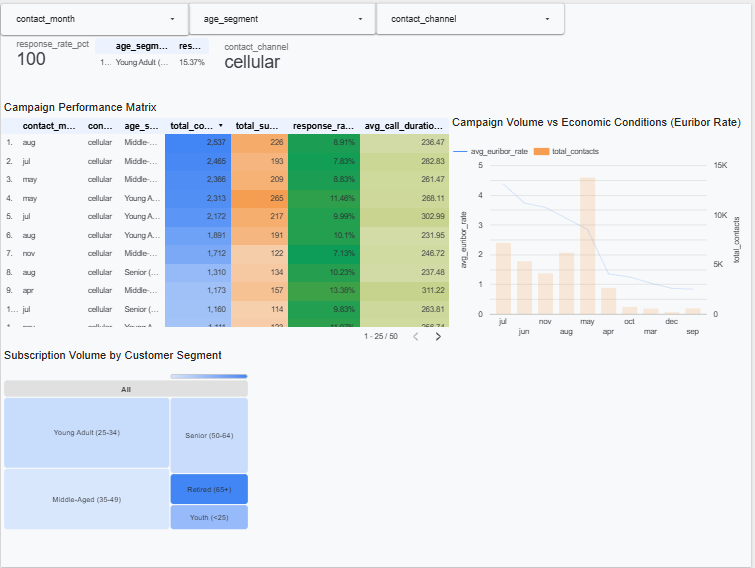

The page's visual inventory and layout, read from the dashboard file:
{"tool":"powerbi","page":{"name":"Customer 360","canvas":[1280,720],"ordinal":2},"visuals":[{"type":"cardVisual","title":"Suppressed Customers","fields":{"Data":["mart_customer_360.Suppressed Customer Count"]},"box":[10,0,280,280],"z":0},{"type":"tableEx","title":"Customer Risk vs Campaign Eligibility","fields":{"Values":["mart_customer_360.campaign_eligibility","mart_customer_360.risk_band"]},"box":[10,290,280,280],"z":1000},{"type":"barChart","title":"Campaign Response Rate by Age Segment and Channel","fields":{"Category":["mart_campaign_performance.age_segment"],"Y":["mart_campaign_performance.Campaign Response Rate %"],"Series":["mart_campaign_performance.contact_channel"]},"box":[290.1,0,588.9,430.1],"z":2000},{"type":"clusteredColumnChart","title":"Contacts by Campaign Performance Tier","fields":{"Category":["mart_campaign_performance.performance_tier"],"Y":["mart_campaign_performance.Total Campaign Contacts"]},"box":[888.9,0,391.3,430.1],"z":3000},{"type":"slicer","fields":{"Values":["mart_campaign_performance.contact_channel"]},"box":[10,570,280,150],"z":4000}]}

Visuals, with their boxes on the page's 1280x720 design canvas (x1, y1, x2, y2). These are canvas units, not pixel positions in the 755x568 screenshot, which may show the page scaled, cropped or inside an application window:
"Suppressed Customers" cardVisual: 10 0 290 280
"Customer Risk vs Campaign Eligibility" tableEx: 10 290 290 570
"Campaign Response Rate by Age Segment and Channel" barChart: 290 0 879 430
"Contacts by Campaign Performance Tier" clusteredColumnChart: 889 0 1280 430
slicer - mart_campaign_performance.contact_channel: 10 570 290 720
